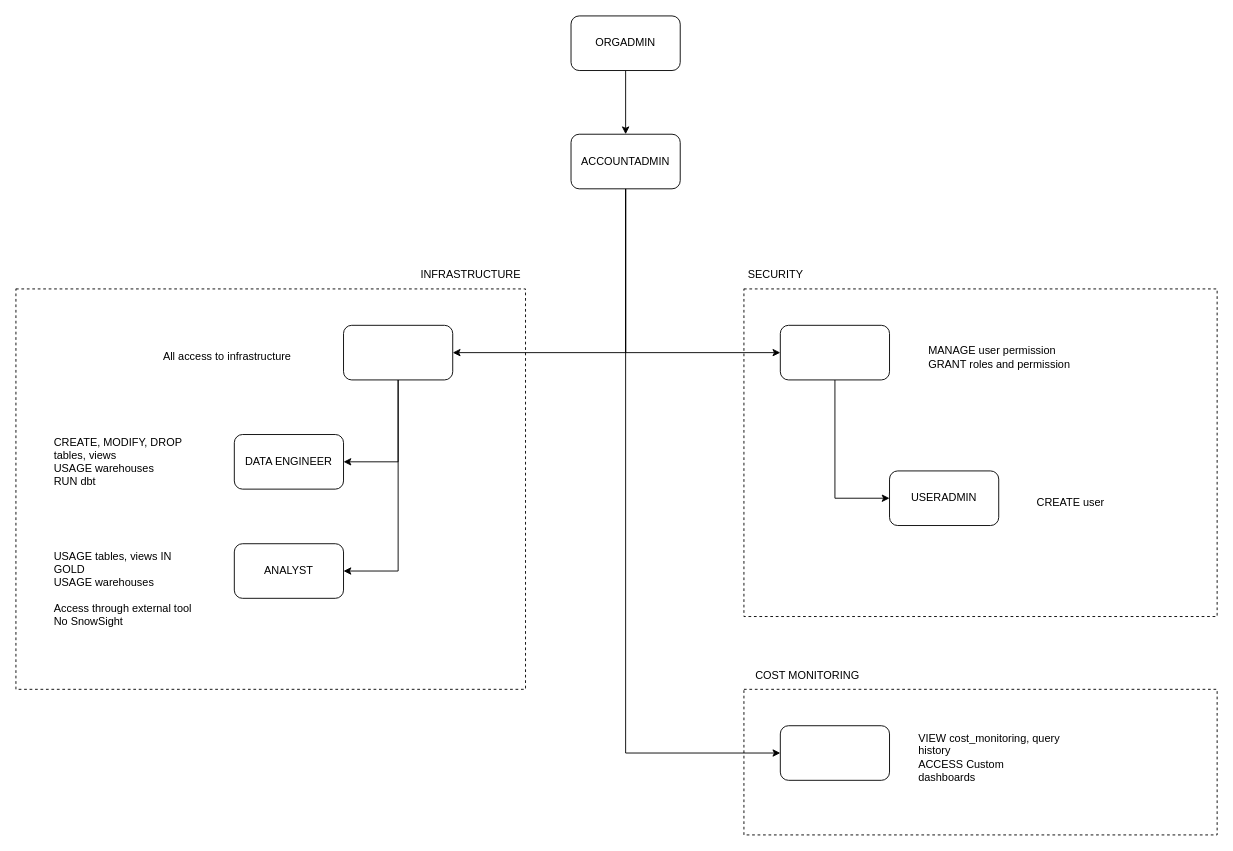
This 1233x851 diagram has some shape labels left out. The centre of each missing label's shape, as x and y in pixels:
"MONITOR" belongs at [834,752].
"SECURITYADMIN" belongs at [834,352].
"SYSADMIN" belongs at [398,352].
